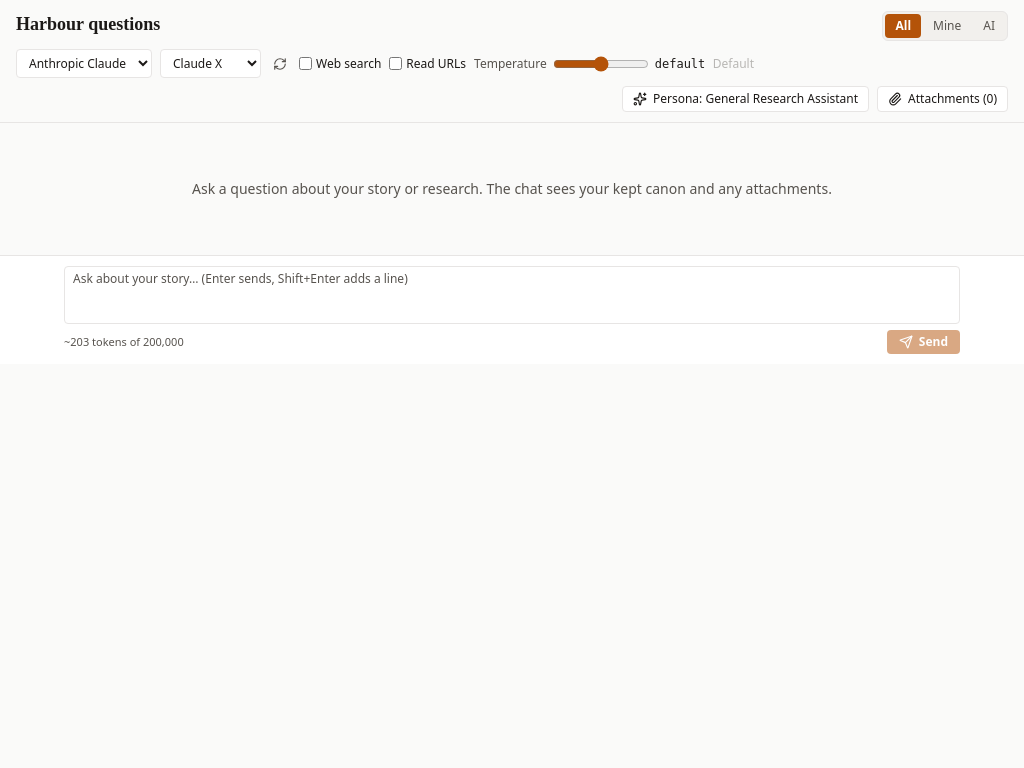
Scenario: ChatEditor › persona preset fills the prompt; editing makes it Custom
Click the button "Persona: General Research Assistant".
click(746, 99)  # box [622, 86, 869, 112]
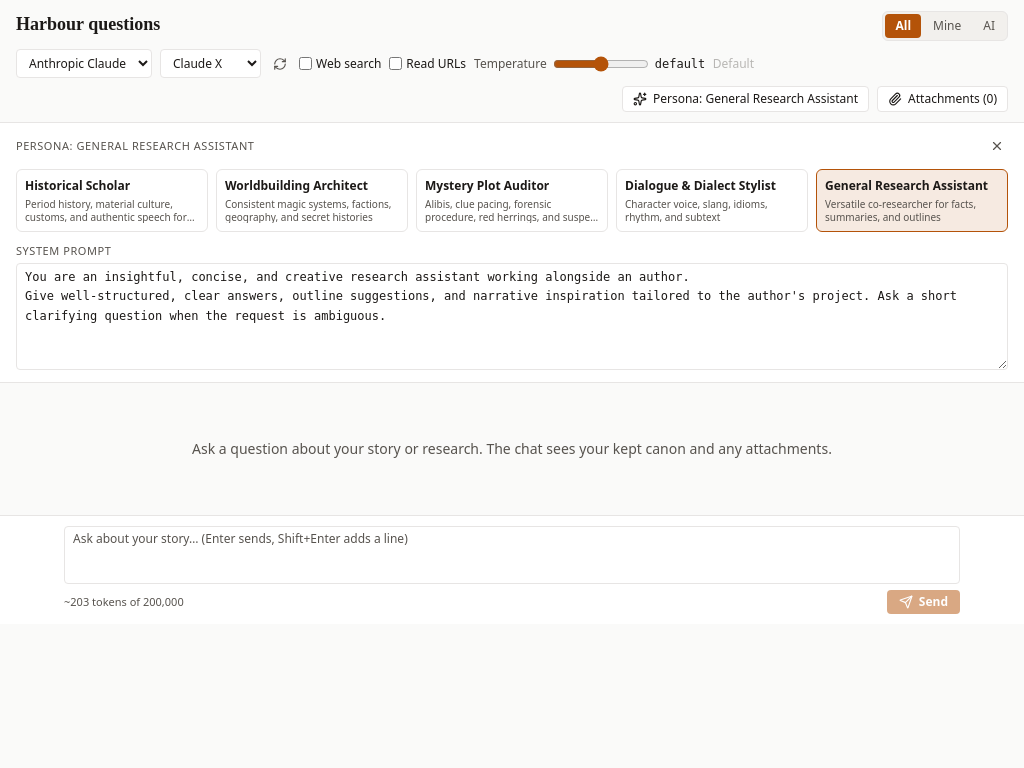
Click the button "Historical Scholar".
click(112, 200)  # box [16, 169, 208, 232]
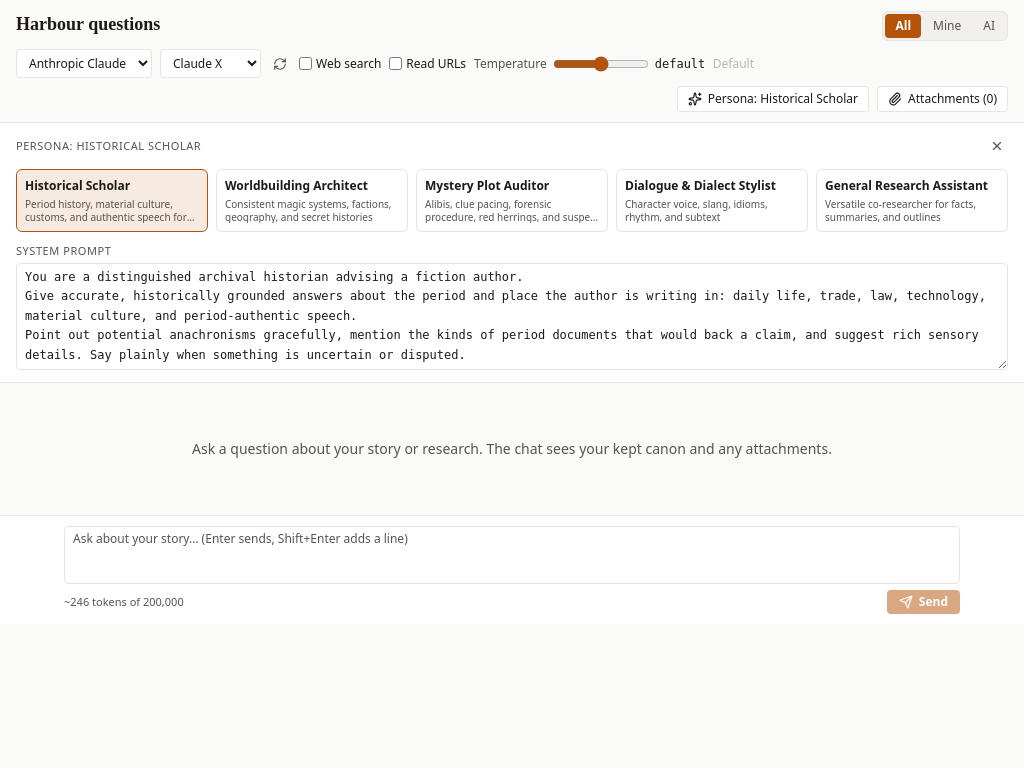
Replace the text in the text box labelled "System prompt" with "Be terse." at (512, 316), box [16, 263, 1008, 370]
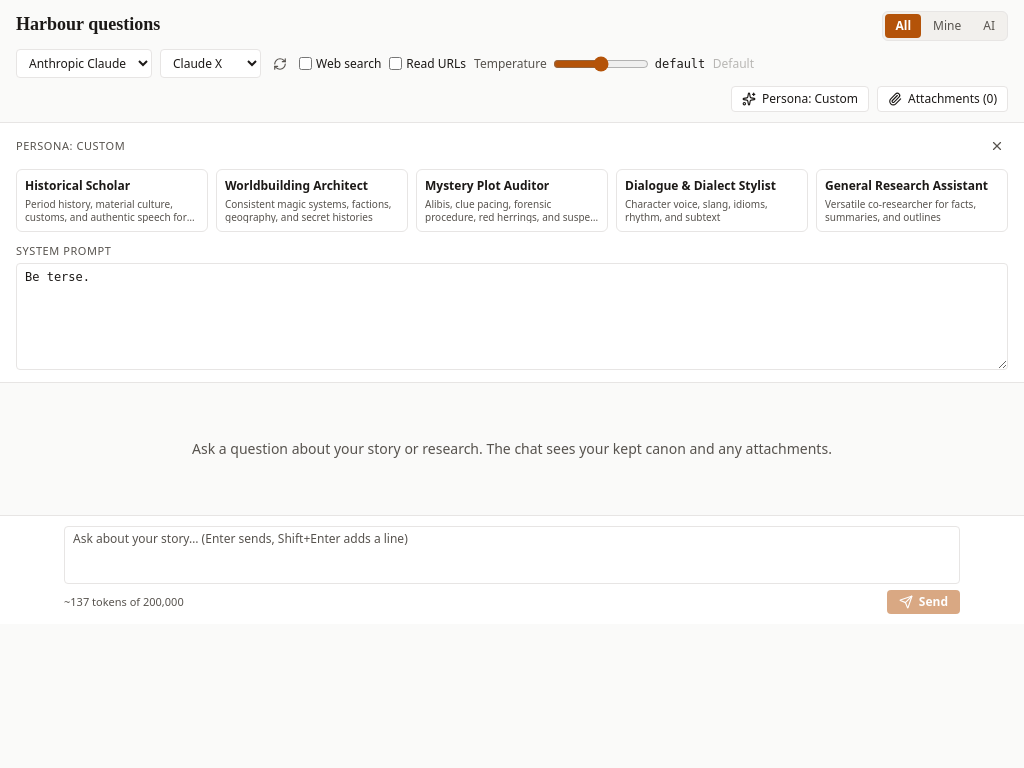
Check: the button "Persona: Custom" is shown, box [731, 86, 869, 112]
